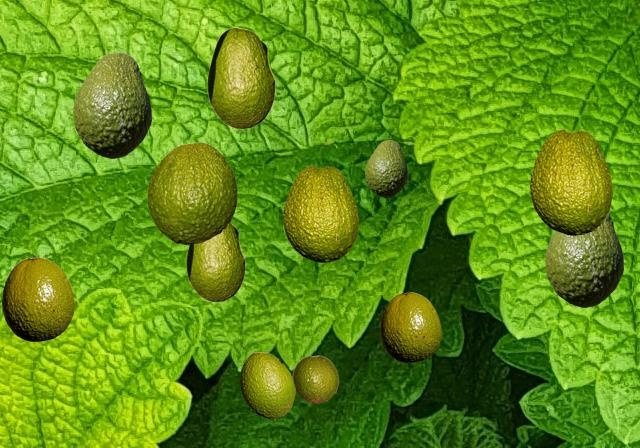avocado: (147, 142, 236, 243), (530, 129, 611, 234), (73, 52, 150, 157), (545, 213, 622, 306), (283, 165, 357, 261), (207, 27, 274, 128), (2, 257, 73, 340), (186, 222, 244, 301), (380, 292, 440, 361), (240, 352, 294, 417), (365, 140, 406, 196), (292, 355, 338, 402)
